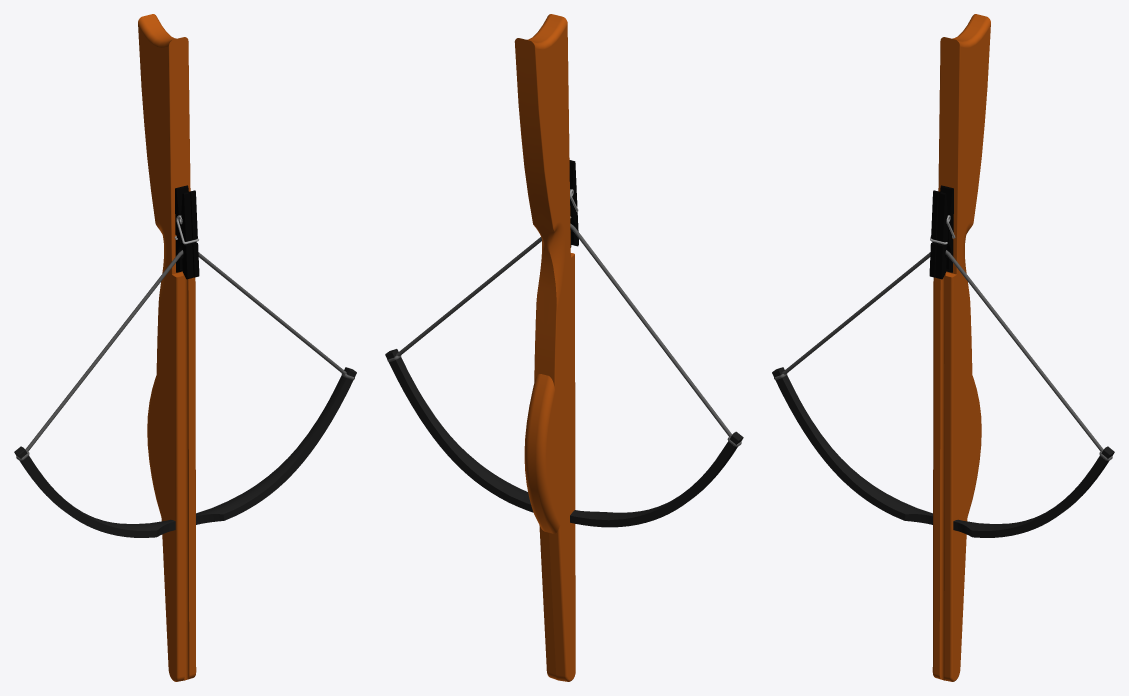
File: АрбалетЗар.fbx
3 renders of one model, left to right at view 1: azimuth 30°, elevation 25°; view 2: azimuth 150°, elevation 25°; view 3: azimuth 330°, elevation 25°, orthographic. The views are drawn at different scales.
Visible parts, largest first — view 1: Основа, Левое плечо (заряж), Правое плечо (заряж), Тетива (заряж), Верх прищепки (заряж), Низ прищепки; view 2: Основа, Левое плечо (заряж), Правое плечо (заряж), Тетива (заряж); view 3: Основа, Правое плечо (заряж), Левое плечо (заряж), Тетива (заряж), Верх прищепки (заряж), Низ прищепки.
Part boxes in pixels (x1,y1,x2,y2): Основа: (138, 14, 196, 681); Левое плечо (заряж): (196, 367, 356, 524); Правое плечо (заряж): (14, 446, 175, 537); Тетива (заряж): (16, 250, 354, 460); Верх прищепки (заряж): (181, 190, 199, 279); Низ прищепки: (175, 185, 188, 272); Основа: (514, 14, 575, 681); Левое плечо (заряж): (385, 349, 533, 512); Правое плечо (заряж): (570, 431, 743, 527); Тетива (заряж): (387, 223, 741, 446); Основа: (932, 14, 990, 681); Правое плечо (заряж): (772, 367, 932, 524); Левое плечо (заряж): (953, 446, 1114, 537); Тетива (заряж): (774, 250, 1112, 460); Верх прищепки (заряж): (929, 190, 947, 279); Низ прищепки: (940, 185, 953, 272).
Size of the model in its own units: 51.06 by 92.01 by 12.04.
